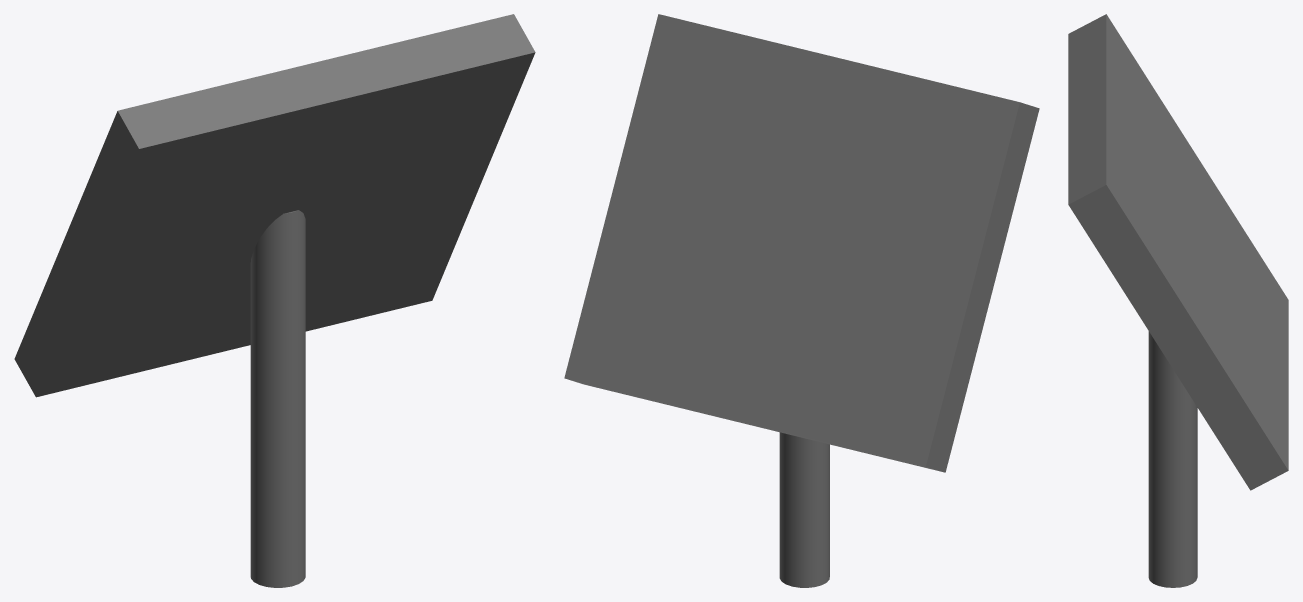
Rendered from Sign.fbx.
3 renders of one model, left to right at view 1: azimuth 30°, elevation 25°; view 2: azimuth 150°, elevation 25°; view 3: azimuth 270°, elevation 25°, orthographic. The views are drawn at different scales.
Parts seen in each view (by area): view 1: Panel, Stake; view 2: Panel, Stake; view 3: Panel, Stake.
Boxes of the visible parts, x1=… form: Panel: x1=14, y1=14, x2=535, y2=397; Stake: x1=250, y1=210, x2=305, y2=587; Panel: x1=564, y1=14, x2=1039, y2=472; Stake: x1=779, y1=432, x2=829, y2=587; Panel: x1=1068, y1=14, x2=1288, y2=490; Stake: x1=1148, y1=331, x2=1197, y2=587.
Size of the model in its own units: 111 by 145 by 60.46.
